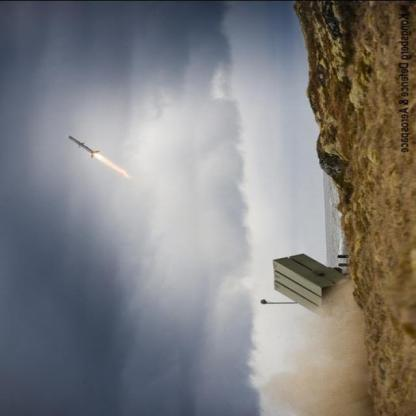MIL_TBM: (61, 133, 102, 159)
